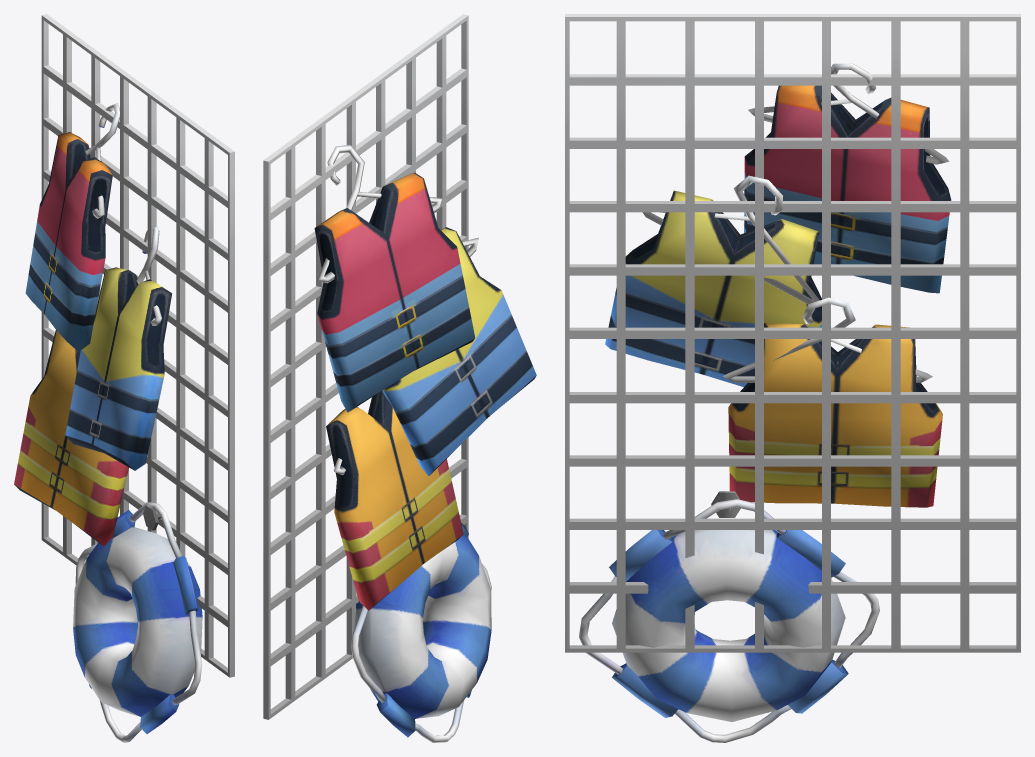
Rendered from my_seahouse_01_meshnat.glb.
3 views of the same model, side by side, from view 1: azimuth 30°, elevation 25°; view 2: azimuth 150°, elevation 25°; view 3: azimuth 270°, elevation 25° (orthographic). The views are drawn at different scales.
Parts seen in each view (by area): view 1: my_seahouse_01_meshnat; view 2: my_seahouse_01_meshnat; view 3: my_seahouse_01_meshnat.
Boxes of the visible parts, x1,y1,x2,y2 form: my_seahouse_01_meshnat: (14, 14, 234, 742); my_seahouse_01_meshnat: (263, 14, 536, 742); my_seahouse_01_meshnat: (565, 14, 1020, 742).
Size of the model in its own units: 0.00215 by 0.0128 by 0.00699.
1 material, 1 textured.
